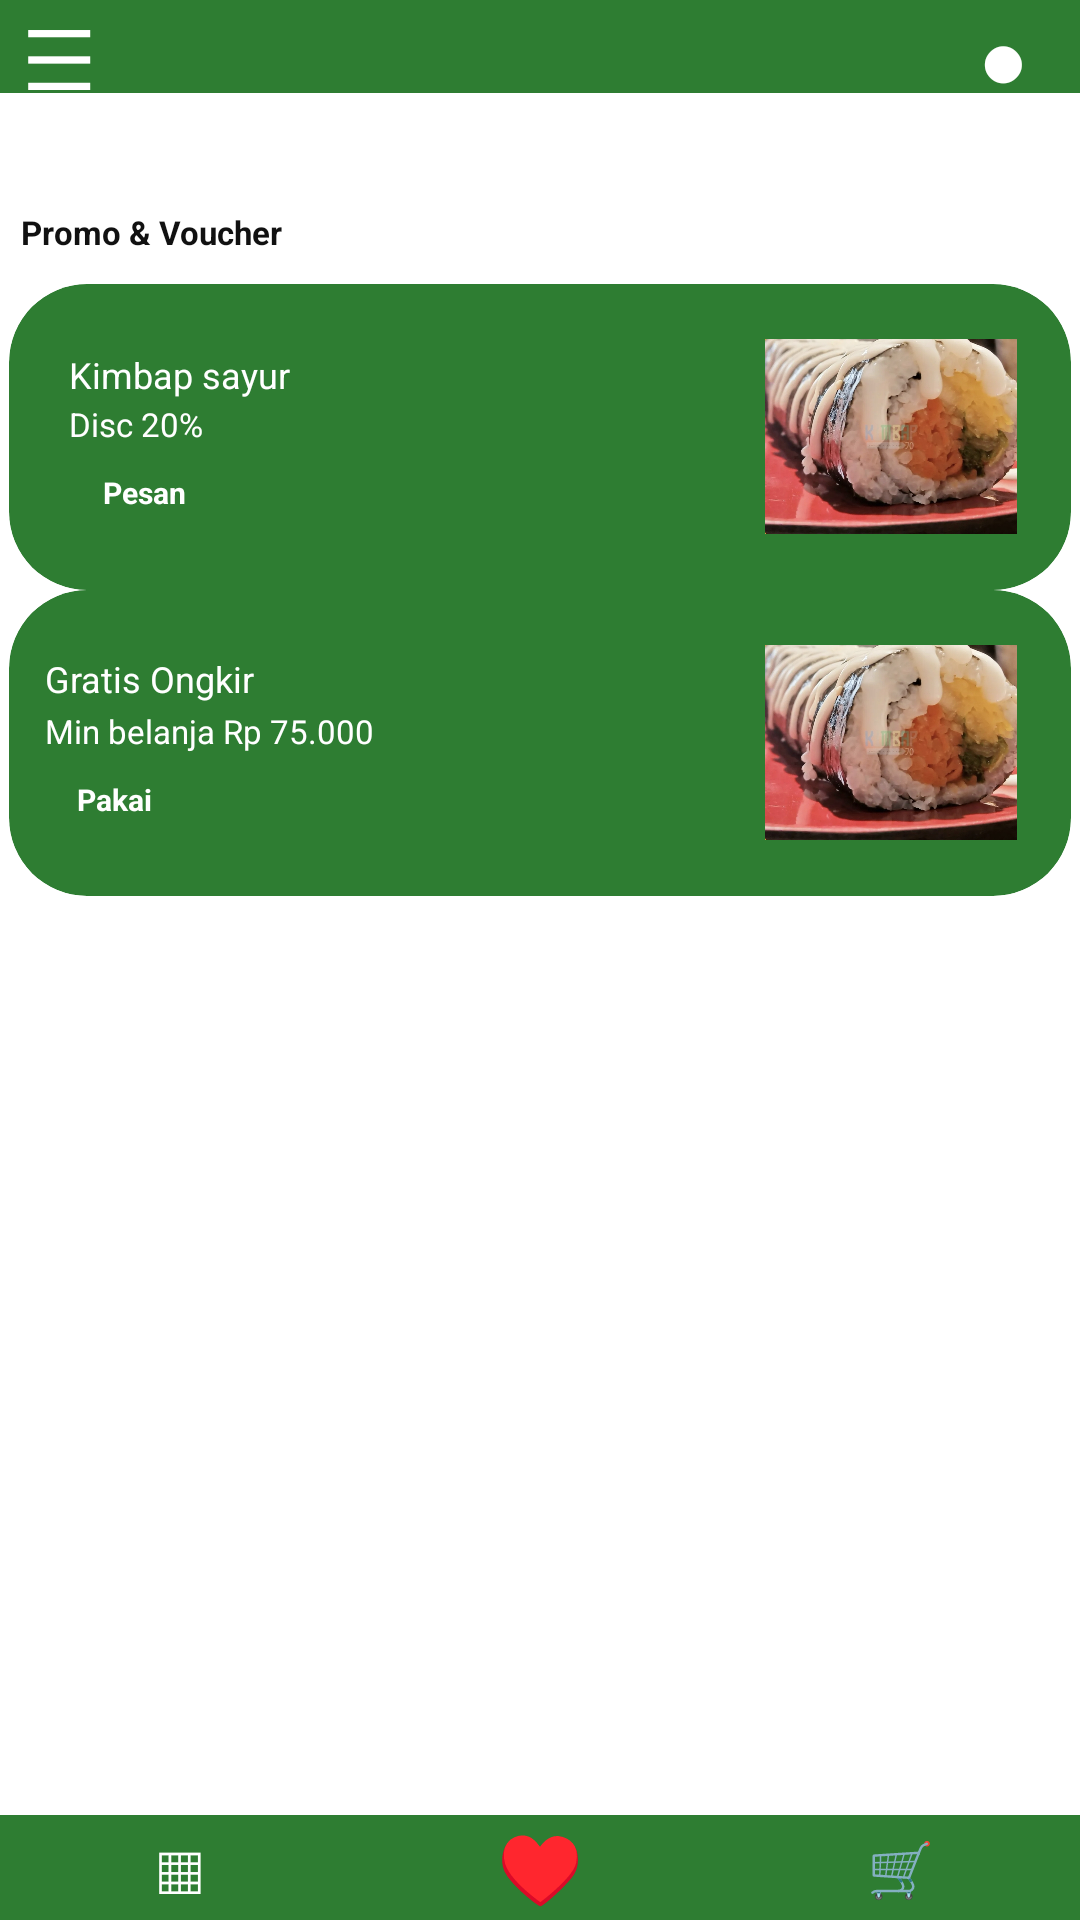

Icons on this 1080w x 1920h Android screen, each with the point to tap as (x,y):
kimbab sayur: (891,436), (891,742)
